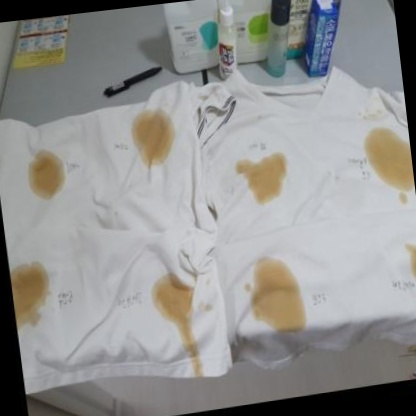coffee: (256, 264, 298, 327), (129, 110, 177, 163), (370, 132, 414, 188), (9, 267, 44, 316), (156, 279, 190, 321), (29, 154, 62, 195), (249, 158, 283, 197), (410, 247, 416, 280)
